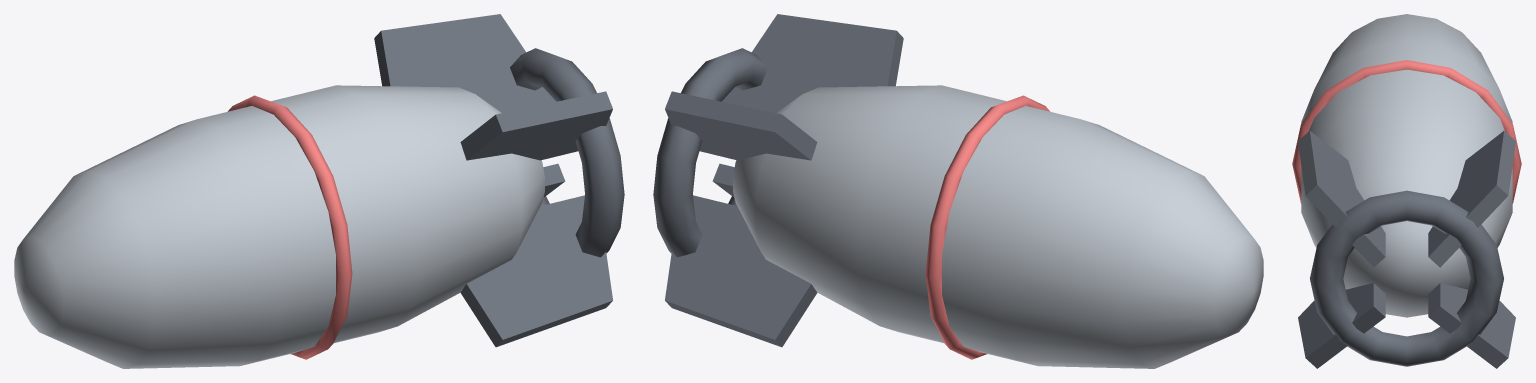
The model's file is FuelAirBomb.fbx.
The picture shows the model from 3 angles, left to right: view 1: azimuth 30°, elevation 25°; view 2: azimuth 150°, elevation 25°; view 3: azimuth 270°, elevation 25°; orthographic projection. The views are drawn at different scales.
Parts seen in each view (by area): view 1: fuel_air; view 2: fuel_air; view 3: fuel_air.
Part boxes in pixels (x1=…): fuel_air: x1=14, y1=14, x2=624, y2=368; fuel_air: x1=653, y1=14, x2=1263, y2=368; fuel_air: x1=1292, y1=14, x2=1521, y2=368.
Size of the model in its own units: 0.81 by 0.3424 by 0.3424.
